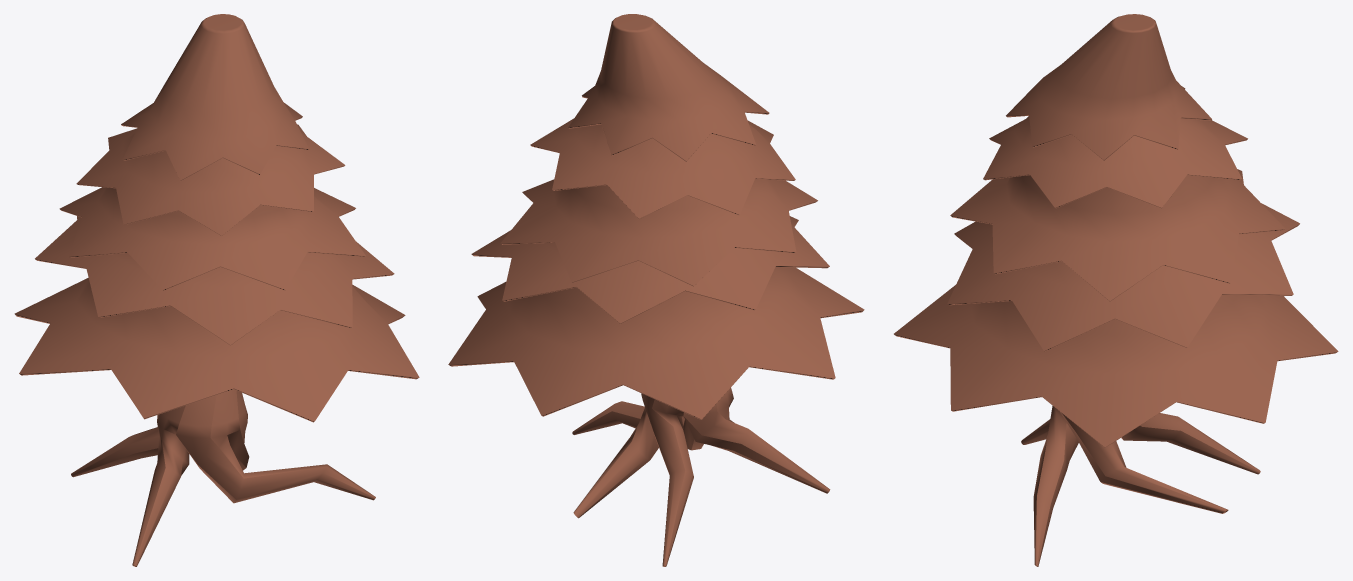
Rendered from Mesh_Hikari_Tree04.FBX.
The picture shows the model from 3 angles, left to right: view 1: azimuth 30°, elevation 25°; view 2: azimuth 150°, elevation 25°; view 3: azimuth 270°, elevation 25°; orthographic projection. The views are drawn at different scales.
Visible parts, largest first — view 1: Mesh_HikariTree02; view 2: Mesh_HikariTree02; view 3: Mesh_HikariTree02.
Boxes of the visible parts, <box> form: Mesh_HikariTree02: <box>14,14,419,566</box>; Mesh_HikariTree02: <box>448,14,864,566</box>; Mesh_HikariTree02: <box>894,14,1338,566</box>.
Size of the model in its own units: 7.35 by 9.01 by 7.29.
